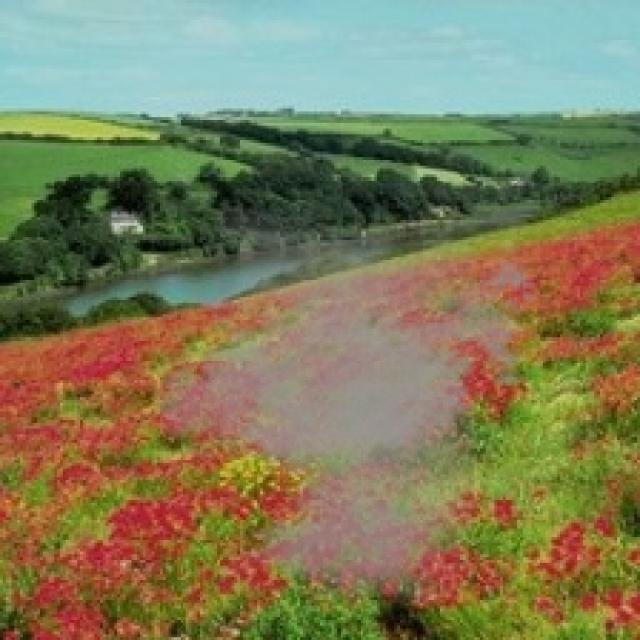Smoke: (140, 205, 549, 606)
